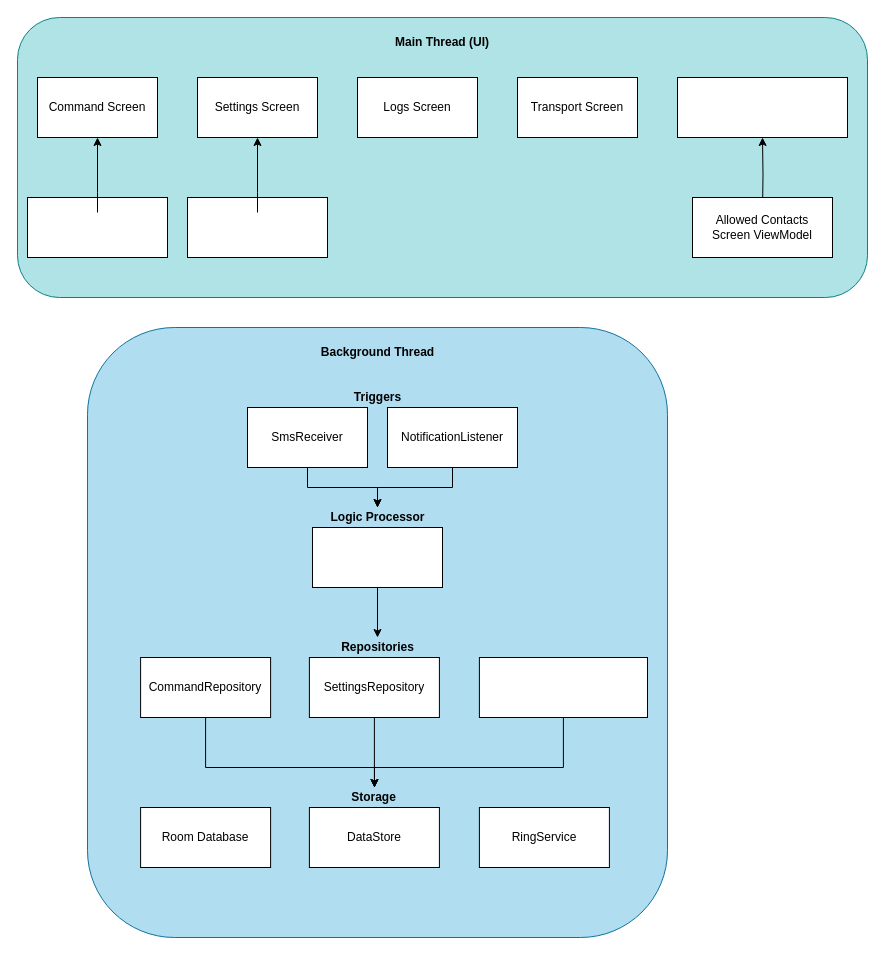
Image size: 885x955. Some labels were removed from this diagram. The shapes that lost their labels are listed below. From the top down, each one's centre as x and y in pixels, then its label:
At point (762, 107): "Allowed Contacts Screen".
At point (97, 227): "Command ViewModel".
At point (257, 227): "Settings ViewModel".
At point (377, 557): "CommandProcessor".
At point (563, 687): "AllowedContactsRepository".
